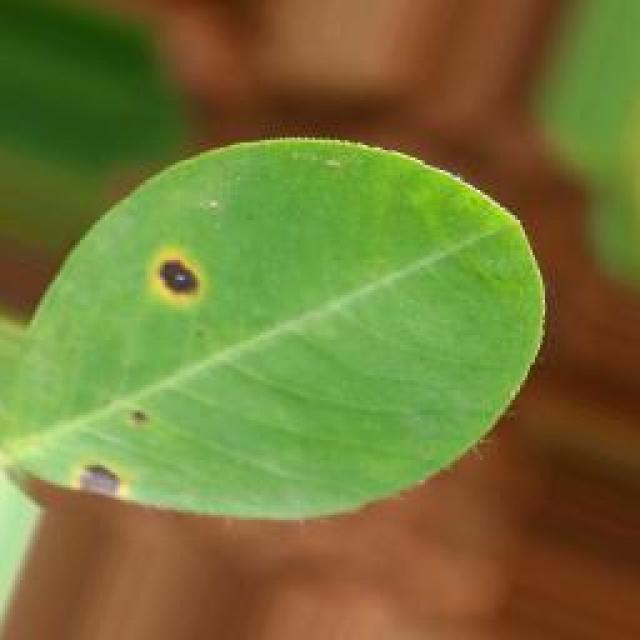Sigatoka: (134, 223, 218, 331), (43, 445, 130, 527), (94, 394, 171, 460)
